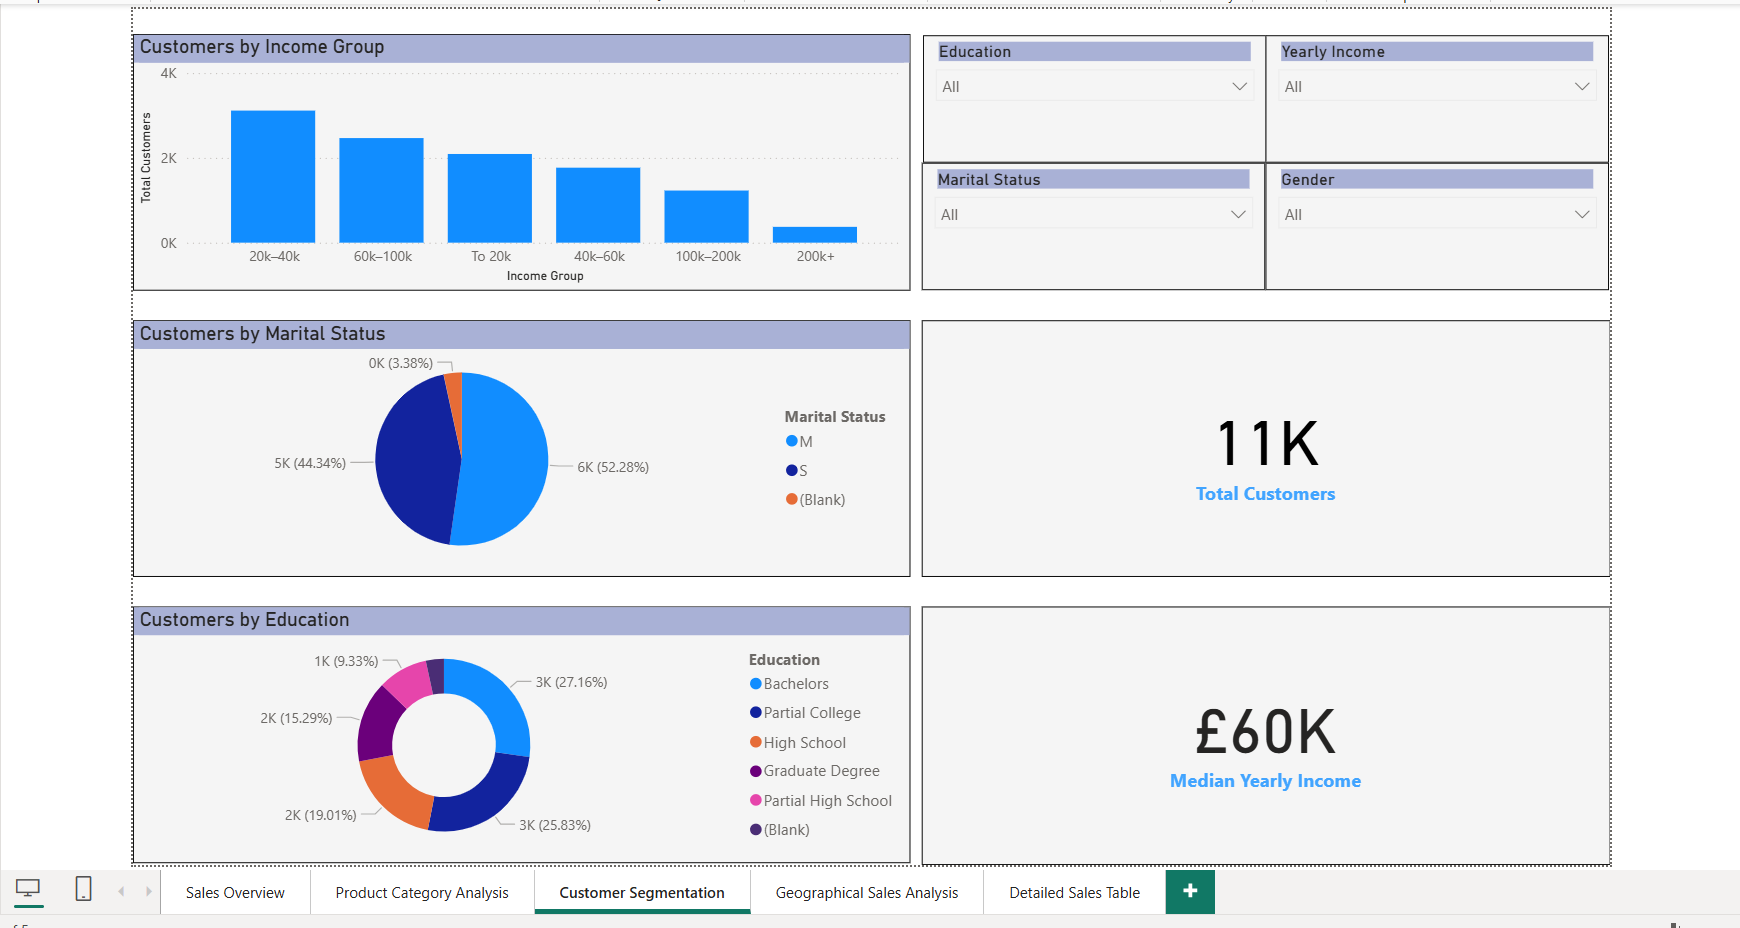

The dashboard page shown, as its layout file describes it:
{"tool":"powerbi","page":{"name":"Customer Segmentation","canvas":[1280,720],"ordinal":2},"visuals":[{"type":"clusteredColumnChart","title":"Customers by Income Group","fields":{"Category":["Customer.Income Group"],"Y":["01.Measures.Total Customers"]},"box":[0,0,673.5,222],"z":0},{"type":"pieChart","title":"Customers by Marital Status","fields":{"Category":["Customer.Marital Status"],"Y":["01.Measures.Total Customers"]},"box":[0,248,673.6,222],"z":1000},{"type":"donutChart","title":"Customers by Education","fields":{"Category":["Customer.Education"],"Y":["01.Measures.Total Customers"]},"box":[0,496,673.6,222],"z":2000},{"type":"card","fields":{"Values":["01.Measures.Total Customers"]},"box":[683.4,248,596.8,222],"z":3000},{"type":"card","fields":{"Values":["01.Measures.Average Yearly Income"]},"box":[683.4,496,596.8,224.2],"z":4000},{"type":"slicer","fields":{"Values":["Customer.Marital Status"]},"box":[683.4,111.6,297.8,110.5],"z":5000},{"type":"slicer","fields":{"Values":["Customer.Education"]},"box":[684.5,1.1,297.8,110.5],"z":6000},{"type":"slicer","fields":{"Values":["Customer.Gender"]},"box":[981.2,111.6,297.8,110.5],"z":7000},{"type":"slicer","fields":{"Values":["Customer.Yearly Income"]},"box":[981.2,1.1,297.8,110.5],"z":8000}]}

Visuals, with their boxes on the page's 1280x720 design canvas (x1, y1, x2, y2). These are canvas units, not pixel positions in the 1740x928 screenshot, which may show the page scaled, cropped or inside an application window:
"Customers by Income Group" clusteredColumnChart: <region>0, 0, 674, 222</region>
"Customers by Marital Status" pieChart: <region>0, 248, 674, 470</region>
"Customers by Education" donutChart: <region>0, 496, 674, 718</region>
card - 01.Measures.Total Customers: <region>683, 248, 1280, 470</region>
card - 01.Measures.Average Yearly Income: <region>683, 496, 1280, 720</region>
slicer - Customer.Marital Status: <region>683, 112, 981, 222</region>
slicer - Customer.Education: <region>684, 1, 982, 112</region>
slicer - Customer.Gender: <region>981, 112, 1279, 222</region>
slicer - Customer.Yearly Income: <region>981, 1, 1279, 112</region>
